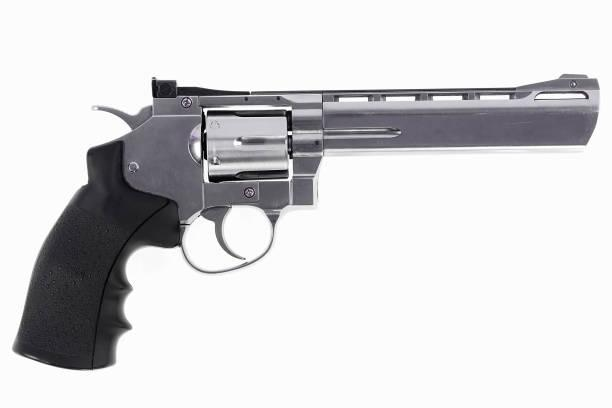weapon: (16, 64, 601, 375)
